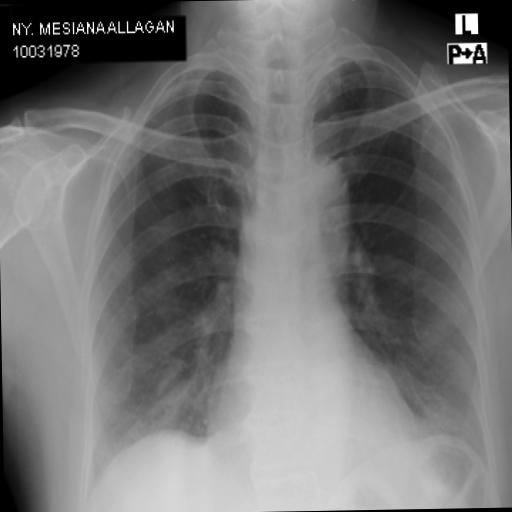normal: (68, 32, 504, 504)
